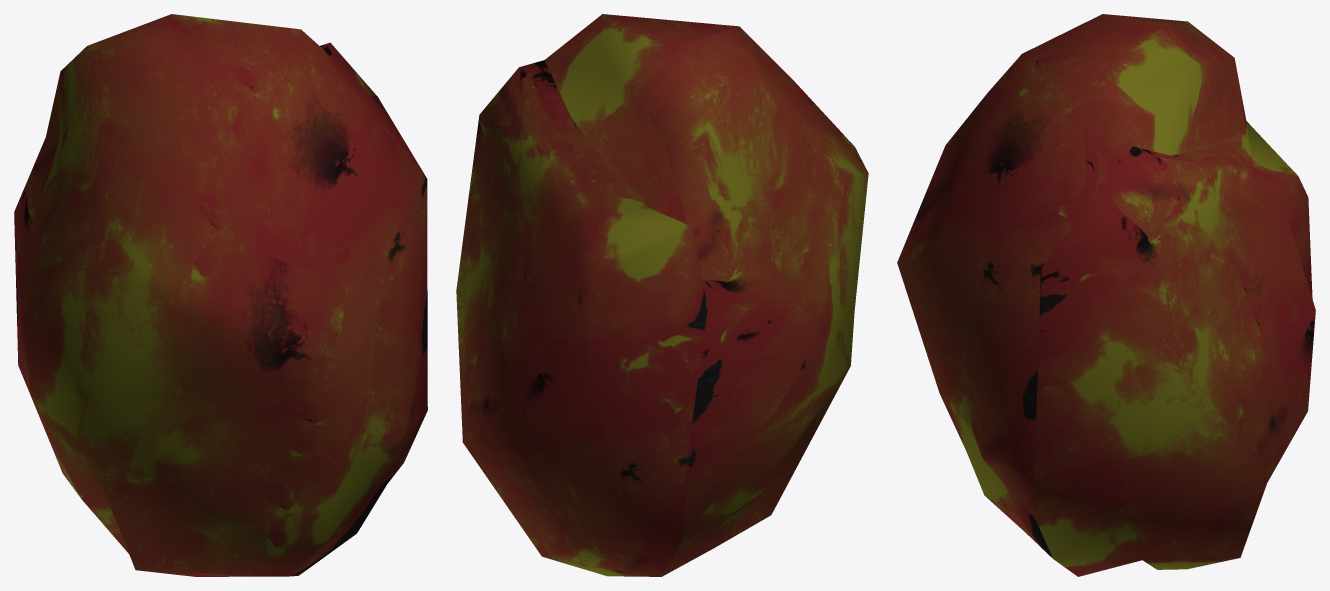
File: HJ_MKTS_019.FBX
3 renders of one model, left to right at view 1: azimuth 30°, elevation 25°; view 2: azimuth 150°, elevation 25°; view 3: azimuth 270°, elevation 25°, orthographic. The views are drawn at different scales.
Visible parts, largest first — view 1: HJ_MKTS_019; view 2: HJ_MKTS_019; view 3: HJ_MKTS_019.
Boxes of the visible parts, left/top/right/bottom form: HJ_MKTS_019: left=14, top=14, right=427, bottom=576; HJ_MKTS_019: left=456, top=14, right=868, bottom=576; HJ_MKTS_019: left=897, top=14, right=1315, bottom=576.
Size of the model in its own units: 0.3032 by 0.4572 by 0.3326.
Materials: 1 (1 with a texture image).
